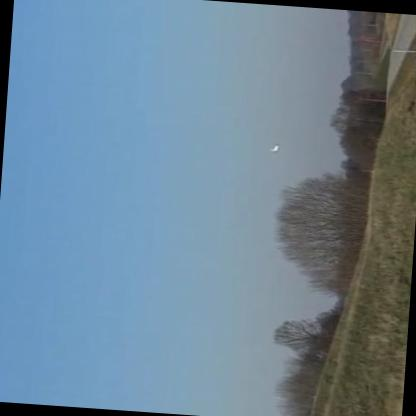plane: (270, 143, 281, 154)
